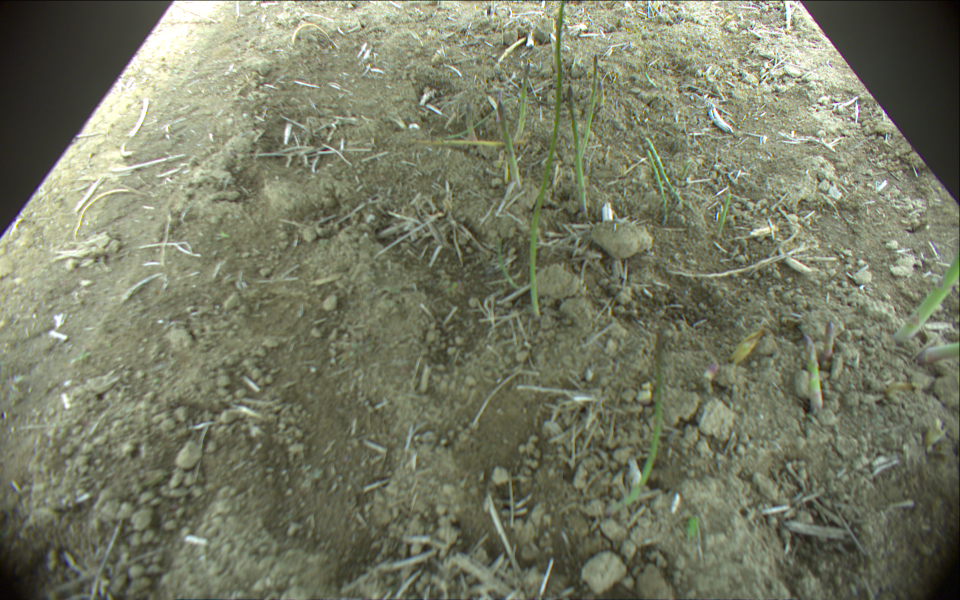aspa: (529, 1, 566, 323), (609, 326, 665, 509), (893, 254, 960, 341), (646, 134, 689, 209), (567, 84, 590, 214), (494, 100, 522, 189), (579, 52, 599, 153), (800, 326, 821, 413), (645, 147, 668, 222), (517, 55, 530, 141), (920, 342, 960, 367), (463, 99, 481, 147), (714, 194, 731, 239), (820, 325, 834, 363)
